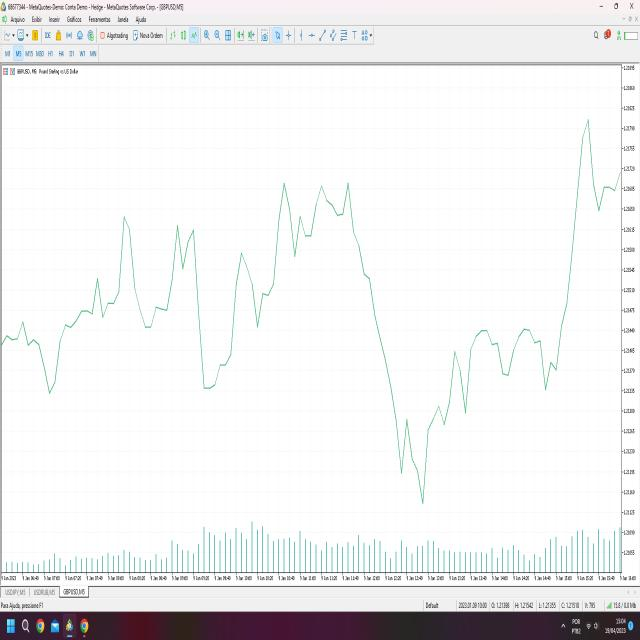fundo_duplo: (376, 352, 455, 518)
topo_duplo: (166, 210, 207, 332)
